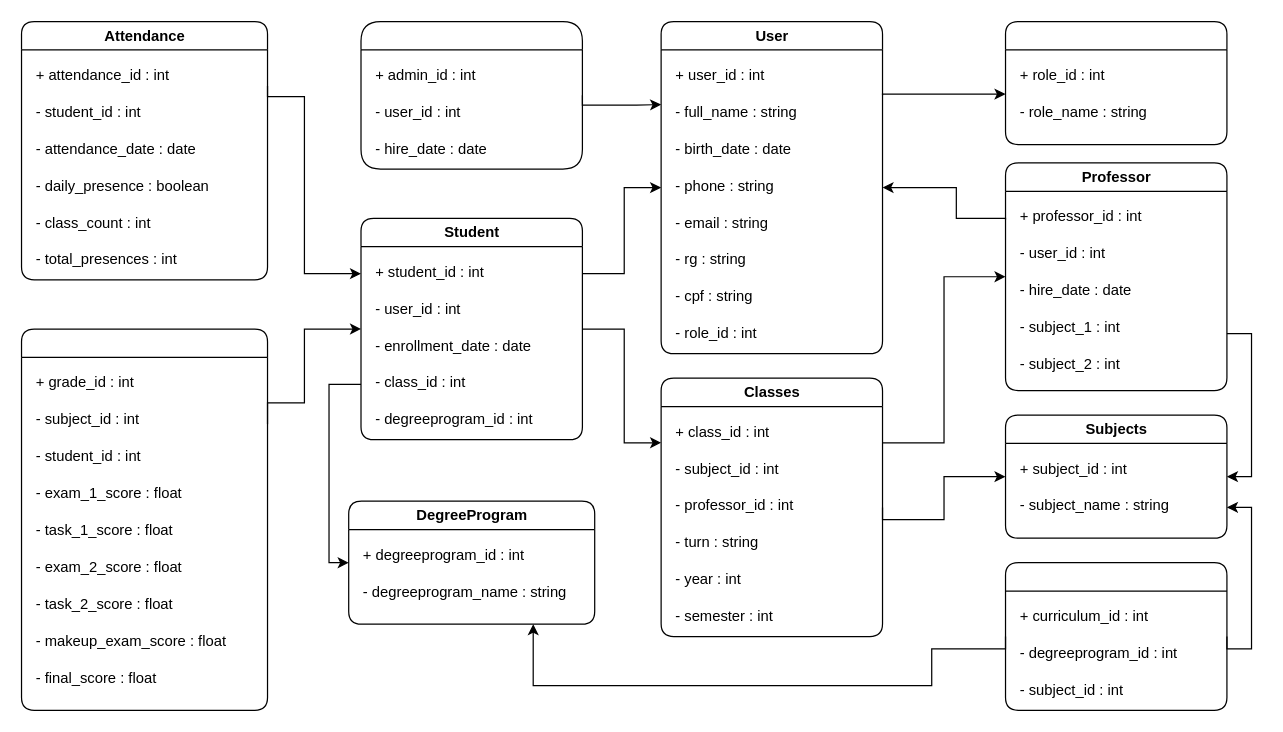
Some shapes in this 1283 by 732 pixel diagram are drawn without their labels. Each missing label, with the box of its shape:
AcademicCurriculum: (1004, 561, 1227, 710)
Administration: (360, 20, 582, 169)
Grades: (20, 328, 268, 710)
Roles: (1004, 20, 1227, 145)
